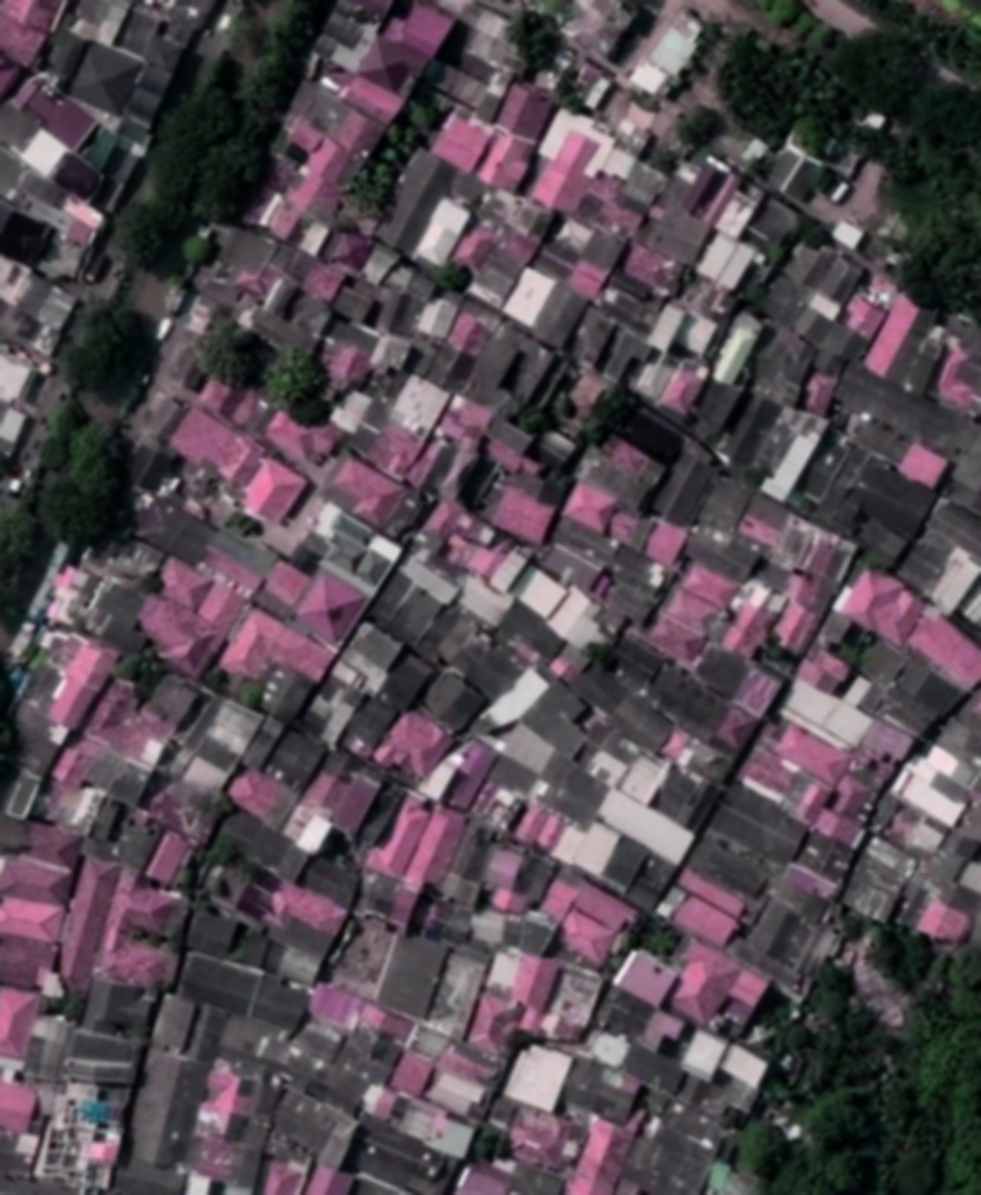building: (0, 0, 216, 184), (734, 674, 913, 849), (818, 361, 981, 490), (756, 229, 904, 370), (714, 494, 862, 633), (0, 73, 144, 214), (0, 622, 122, 787), (31, 0, 183, 128), (279, 509, 407, 652), (732, 856, 859, 999), (0, 140, 114, 296), (35, 0, 174, 121), (123, 553, 250, 684), (830, 359, 981, 464), (578, 725, 719, 837), (284, 48, 409, 166), (342, 357, 459, 480), (298, 620, 406, 752), (216, 603, 339, 714), (638, 658, 766, 764), (255, 844, 368, 964), (92, 867, 197, 996), (610, 1090, 736, 1195), (28, 1074, 137, 1195), (184, 1057, 281, 1190), (174, 948, 316, 1035), (659, 937, 774, 1044), (564, 654, 681, 758), (119, 1047, 214, 1175), (164, 686, 268, 802), (453, 180, 558, 292), (460, 318, 567, 427), (354, 0, 463, 106), (859, 292, 964, 401), (891, 493, 981, 620), (529, 202, 635, 309), (787, 425, 888, 536), (643, 556, 741, 670), (366, 145, 463, 259), (317, 448, 431, 545), (526, 110, 622, 222), (48, 853, 123, 995), (363, 549, 463, 653), (125, 584, 229, 682), (741, 397, 834, 506), (363, 1079, 480, 1163), (872, 649, 971, 747), (669, 1023, 774, 1114), (706, 783, 812, 873), (165, 402, 270, 492), (625, 7, 718, 107), (832, 558, 932, 650), (593, 782, 698, 869), (0, 254, 83, 364), (572, 426, 671, 517), (263, 1084, 364, 1173), (888, 736, 981, 832), (346, 1118, 458, 1195), (0, 252, 82, 357), (200, 214, 295, 304), (843, 455, 940, 543), (147, 760, 239, 852), (41, 634, 123, 737), (11, 68, 104, 157), (214, 804, 314, 886), (369, 702, 459, 793), (477, 461, 569, 550), (0, 812, 85, 907), (776, 675, 875, 756), (217, 1014, 329, 1083), (899, 603, 981, 697), (839, 834, 921, 927), (282, 134, 364, 227), (371, 928, 451, 1022), (63, 732, 159, 810), (287, 563, 373, 650), (518, 682, 604, 767), (61, 34, 147, 119), (128, 490, 220, 569), (758, 409, 833, 505), (556, 1052, 647, 1131), (399, 802, 473, 899), (684, 828, 776, 906), (553, 0, 655, 69), (595, 544, 675, 631), (499, 1101, 588, 1179), (423, 942, 493, 1041), (648, 442, 724, 532), (364, 790, 437, 883), (742, 323, 820, 410), (449, 624, 531, 705), (195, 520, 281, 597), (310, 0, 394, 78), (235, 452, 314, 533), (330, 619, 407, 701), (306, 1040, 384, 1120), (636, 196, 717, 272), (503, 948, 571, 1038), (718, 578, 789, 664), (681, 517, 765, 589), (715, 389, 784, 475), (539, 961, 607, 1048), (564, 1115, 637, 1195), (430, 0, 515, 68), (477, 664, 553, 740), (420, 599, 496, 675), (502, 1037, 576, 1115), (223, 760, 303, 832), (576, 174, 654, 245), (62, 1026, 145, 1092), (759, 136, 833, 210), (349, 865, 427, 935), (476, 840, 558, 906), (416, 665, 490, 738), (495, 598, 571, 668), (615, 400, 691, 470), (0, 0, 68, 78), (594, 270, 669, 340), (889, 766, 969, 831), (543, 584, 615, 656), (540, 758, 613, 829), (384, 370, 455, 443), (610, 943, 684, 1013), (260, 408, 343, 470), (412, 192, 476, 272), (319, 763, 386, 839), (896, 883, 978, 945), (81, 975, 158, 1040), (707, 308, 768, 390), (428, 388, 498, 459), (428, 107, 498, 177), (262, 725, 331, 796), (473, 126, 541, 198), (659, 726, 735, 790), (668, 890, 745, 953), (790, 523, 861, 591), (528, 279, 593, 353), (215, 1012, 291, 1075), (492, 77, 561, 146), (117, 430, 185, 500), (100, 530, 171, 597), (0, 1133, 77, 1194), (141, 667, 209, 736), (0, 196, 59, 275), (97, 935, 177, 993), (337, 690, 402, 761), (252, 660, 319, 728), (374, 647, 439, 717), (82, 675, 146, 746), (443, 737, 501, 814), (568, 877, 641, 938), (920, 544, 981, 617), (615, 1039, 690, 1098), (363, 416, 429, 483), (463, 989, 526, 1059), (675, 864, 752, 921), (363, 417, 429, 483), (491, 717, 559, 781), (552, 906, 621, 969), (693, 472, 755, 542), (603, 628, 669, 693), (383, 582, 447, 649), (465, 243, 528, 311), (337, 69, 408, 129), (538, 538, 609, 598), (86, 580, 144, 653), (742, 193, 807, 258), (592, 984, 658, 1048), (245, 307, 323, 360), (673, 155, 734, 222), (21, 1010, 75, 1085), (550, 514, 622, 570), (846, 514, 912, 575), (508, 797, 572, 859), (690, 641, 754, 703), (466, 332, 526, 398), (882, 802, 949, 861), (619, 240, 687, 298), (396, 550, 464, 608), (620, 849, 680, 914), (500, 263, 559, 329), (560, 477, 624, 537), (451, 572, 516, 631), (911, 894, 976, 953), (182, 906, 247, 964), (424, 1064, 490, 1121), (690, 376, 747, 442), (0, 932, 61, 993), (343, 1027, 404, 1088), (593, 832, 652, 895), (794, 829, 858, 887), (565, 305, 623, 369), (147, 991, 202, 1058), (794, 642, 857, 700), (509, 563, 570, 622), (436, 1037, 505, 1089), (507, 951, 563, 1015), (657, 355, 712, 420), (42, 562, 95, 629), (598, 327, 654, 390), (328, 104, 388, 162), (768, 597, 825, 658), (304, 979, 368, 1033), (192, 577, 250, 636), (35, 230, 93, 289), (616, 747, 673, 807), (0, 894, 67, 945), (926, 829, 981, 891), (142, 827, 196, 890), (179, 1002, 231, 1067), (852, 634, 910, 692), (47, 149, 107, 205), (136, 386, 192, 446), (448, 817, 498, 884), (679, 272, 741, 326), (894, 438, 953, 494), (529, 293, 584, 352), (416, 741, 467, 804), (476, 781, 532, 838), (289, 1013, 348, 1067), (436, 440, 485, 505), (110, 817, 163, 876), (570, 819, 623, 878), (937, 345, 980, 417), (480, 435, 543, 484), (0, 986, 41, 1060), (283, 289, 339, 343), (499, 192, 557, 244), (239, 714, 288, 775), (258, 556, 313, 610), (424, 341, 478, 396), (714, 239, 765, 297), (412, 286, 463, 344), (432, 62, 491, 112), (936, 697, 980, 764), (300, 255, 354, 309), (10, 727, 64, 780), (717, 1040, 773, 1091), (640, 517, 692, 571), (567, 59, 618, 114), (712, 186, 762, 242), (771, 605, 823, 658), (388, 1048, 439, 1101), (441, 532, 499, 578), (325, 224, 376, 276), (443, 308, 494, 360), (511, 907, 561, 960), (162, 345, 211, 399), (356, 1001, 414, 1046), (639, 1007, 689, 1059), (367, 328, 417, 379), (331, 282, 384, 330), (485, 544, 533, 597), (327, 384, 375, 437), (487, 753, 541, 800), (629, 352, 677, 404), (194, 373, 246, 421), (194, 273, 246, 321), (619, 158, 669, 207), (2, 768, 46, 823), (645, 299, 689, 354), (951, 428, 980, 511), (480, 843, 528, 893), (694, 230, 739, 283), (485, 414, 538, 459), (264, 198, 311, 247), (403, 1020, 453, 1066), (292, 809, 338, 859), (603, 505, 653, 551), (114, 1162, 185, 1194), (227, 925, 276, 971), (358, 241, 403, 291), (382, 882, 424, 935), (586, 1025, 634, 1071), (301, 765, 346, 814), (536, 876, 581, 924), (280, 113, 327, 158), (88, 795, 129, 846), (676, 311, 720, 358), (464, 536, 508, 583), (286, 530, 330, 577), (0, 1080, 39, 1133), (421, 495, 464, 543), (61, 191, 109, 234), (784, 572, 833, 614), (322, 344, 371, 386), (50, 742, 93, 789), (259, 273, 301, 321), (0, 348, 36, 402), (800, 370, 840, 418), (546, 643, 590, 686), (452, 46, 498, 87), (485, 946, 523, 994), (357, 1080, 400, 1122), (466, 906, 509, 947), (536, 426, 580, 466), (508, 1163, 564, 1194), (376, 286, 411, 334), (262, 1159, 308, 1195), (599, 143, 639, 183), (21, 1077, 60, 1118), (484, 1092, 523, 1133), (454, 1165, 509, 1194), (0, 405, 31, 456), (345, 418, 383, 459), (945, 880, 981, 923), (296, 218, 333, 259), (304, 1166, 354, 1194), (137, 733, 169, 769), (384, 261, 417, 294), (612, 836, 644, 868), (957, 799, 980, 843), (351, 0, 393, 22), (0, 113, 19, 157), (601, 862, 628, 890), (316, 72, 344, 96), (810, 705, 835, 722), (826, 692, 843, 710), (743, 511, 763, 526), (405, 465, 419, 481), (765, 691, 777, 709), (123, 730, 136, 746), (550, 1016, 560, 1033), (422, 448, 428, 475), (737, 663, 745, 682), (763, 698, 774, 709)
tree: (127, 61, 256, 219), (686, 27, 818, 159), (909, 950, 975, 1142), (241, 0, 333, 132), (57, 291, 154, 401), (823, 20, 930, 119), (887, 216, 981, 326), (27, 397, 132, 495), (190, 128, 283, 233), (335, 134, 432, 231), (871, 0, 981, 75), (36, 472, 134, 556), (256, 333, 335, 416), (857, 923, 937, 1002), (821, 1005, 898, 1087), (805, 1078, 883, 1158), (914, 84, 981, 177), (111, 199, 189, 278), (196, 314, 275, 392), (763, 0, 849, 62), (884, 1132, 966, 1194), (846, 120, 924, 185), (0, 505, 51, 603), (775, 1143, 880, 1189), (763, 1001, 823, 1060), (518, 388, 583, 441), (203, 839, 268, 891), (514, 11, 569, 64), (734, 1122, 782, 1180), (797, 91, 848, 144), (813, 963, 861, 1019), (582, 387, 627, 441), (667, 102, 714, 150), (546, 65, 582, 117), (880, 1075, 912, 1133), (473, 1121, 509, 1162), (640, 919, 677, 954), (580, 644, 615, 675), (745, 151, 773, 179), (797, 218, 826, 244), (766, 236, 791, 266), (433, 270, 469, 289)
